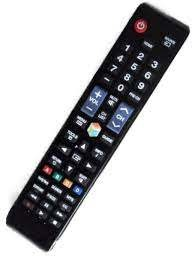remote control: (0, 0, 194, 253)
